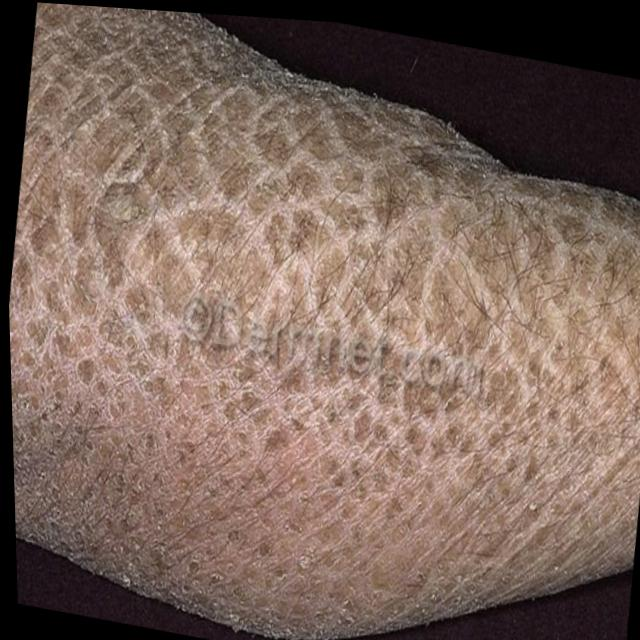liquenificacion 1: (10, 2, 640, 626)
liquenificacion 2: (10, 2, 640, 626)
liquenificacion 3: (10, 2, 640, 626)
